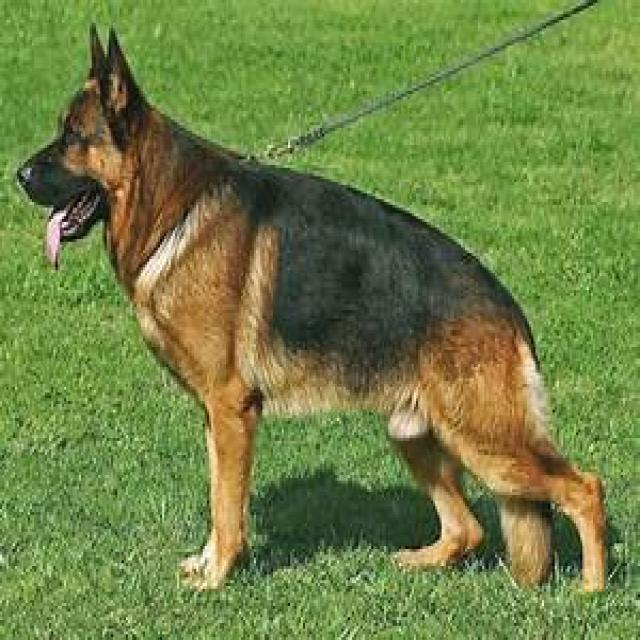dog: (18, 28, 602, 589)
